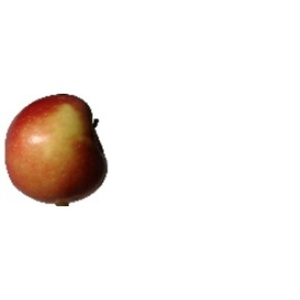maçã braeburn: (2, 90, 115, 209)
